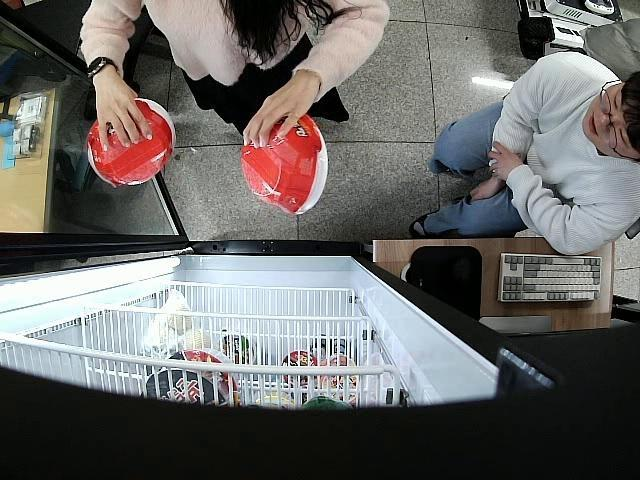10_wangTtukkeong: (242, 112, 328, 216), (86, 99, 177, 188)
